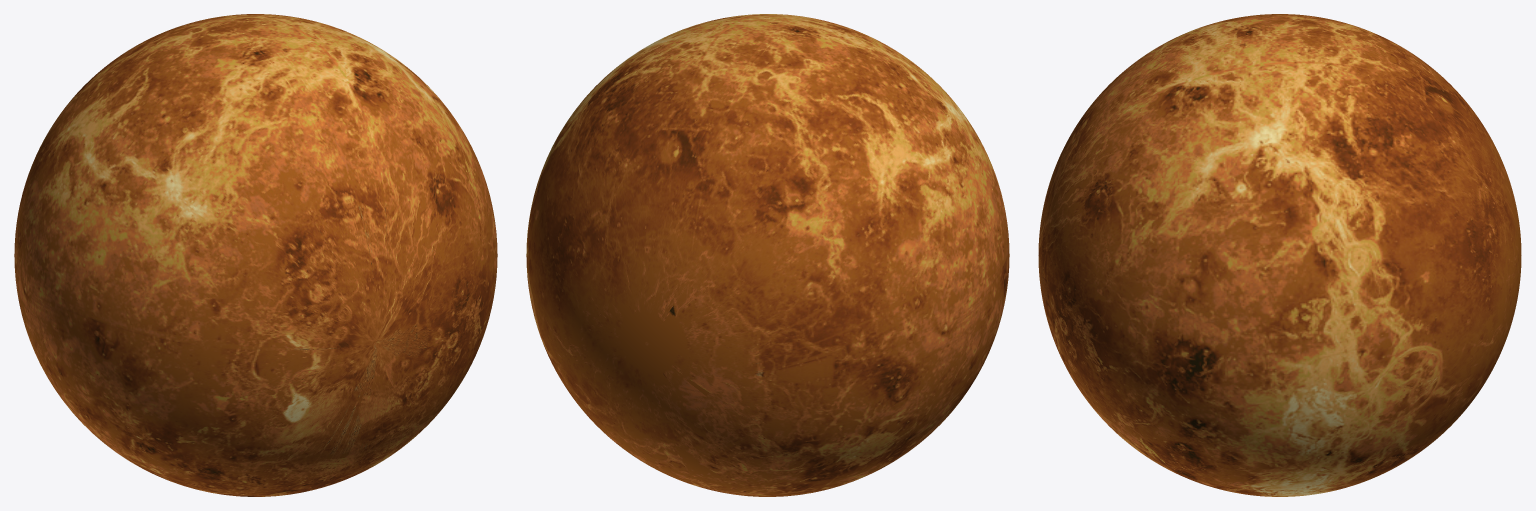
Rendered from venus.glb.
3 views of the same model, side by side, from view 1: azimuth 30°, elevation 25°; view 2: azimuth 150°, elevation 25°; view 3: azimuth 270°, elevation 25° (orthographic).
Parts seen in each view (by area): view 1: Venus; view 2: Venus; view 3: Venus.
Boxes of the visible parts, <box> form: Venus: <box>14,14,497,496</box>; Venus: <box>526,14,1009,496</box>; Venus: <box>1038,14,1521,496</box>.
Bounding box in the file's own units: 2 × 2 × 2.
1 material, 1 textured.
